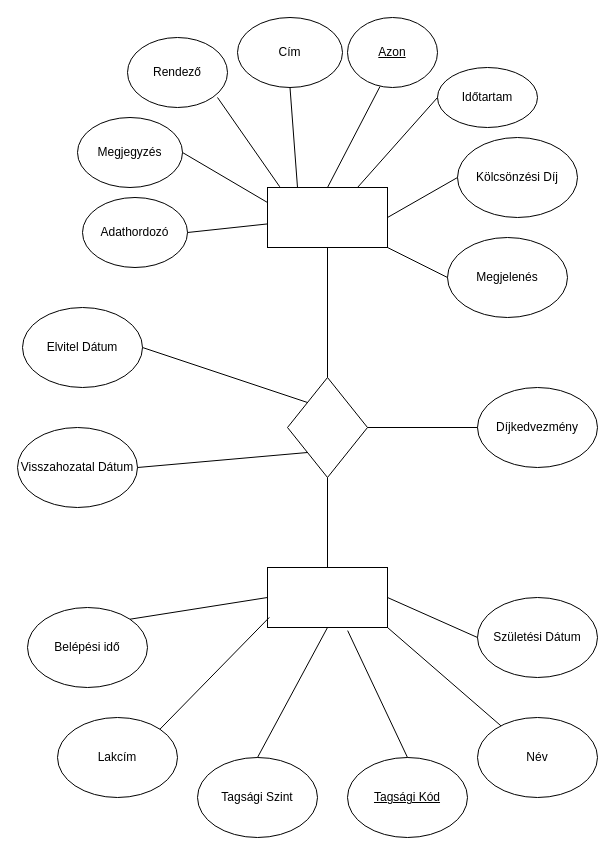
The diagram is 615 pixels wide and 855 high, and some of its shapes have lost their labels. Here are the shapes that lost their labels. From the top down, the box of each, then its label:
(266, 186, 388, 248): Filmek
(286, 376, 368, 478): Kölcsönzés
(266, 566, 388, 628): Tagok
